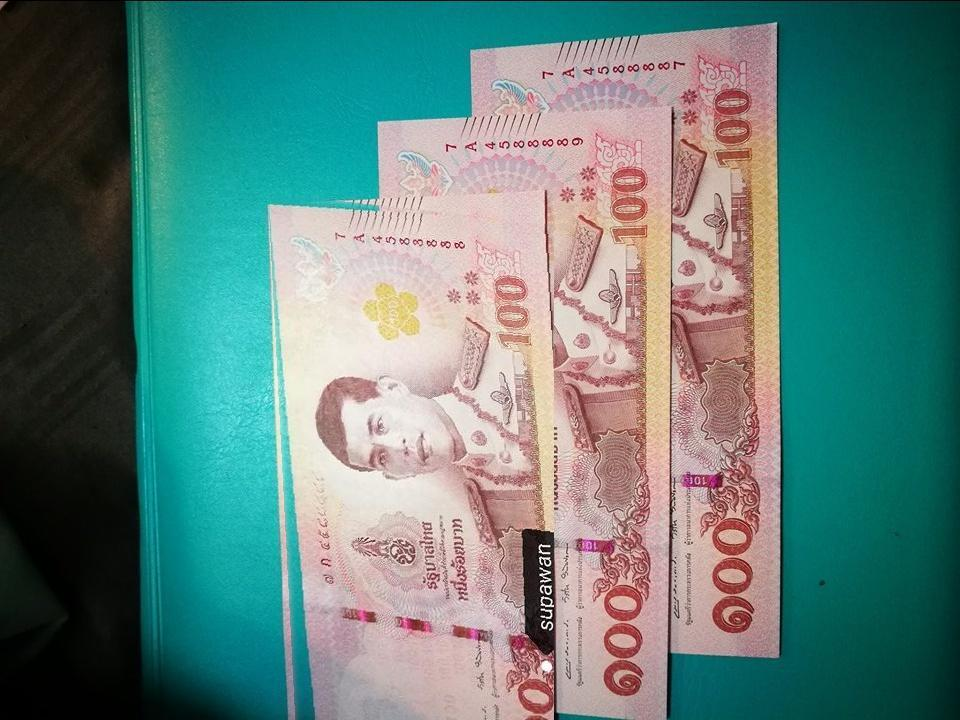100BahtTai: (268, 193, 554, 720)
